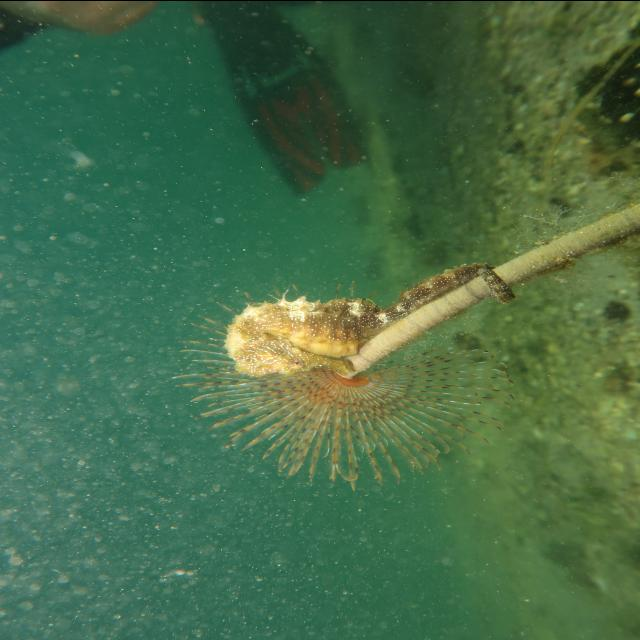Guttu: (218, 333, 359, 379)
